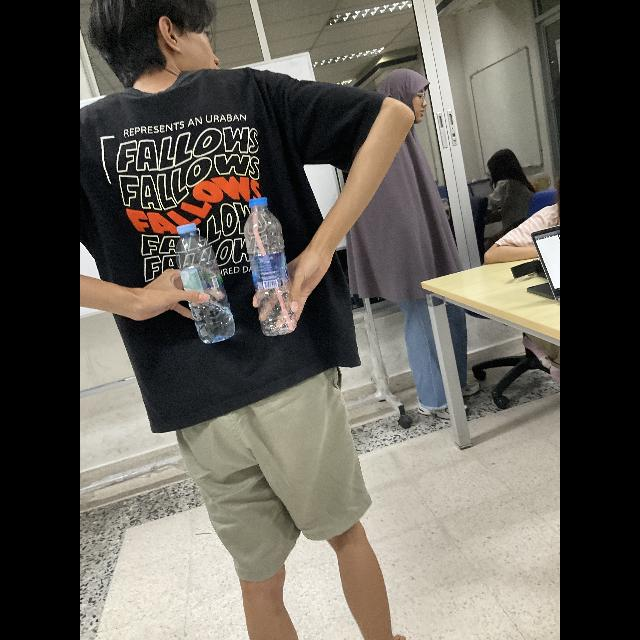plastic_bottle: (175, 223, 237, 345), (244, 197, 298, 336)
